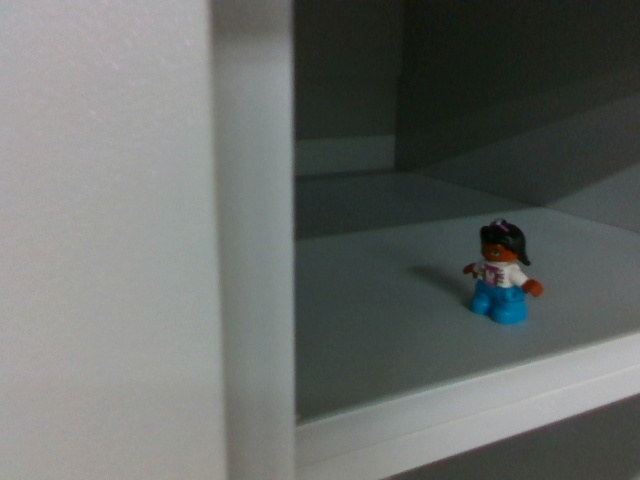people: (463, 219, 543, 329)
